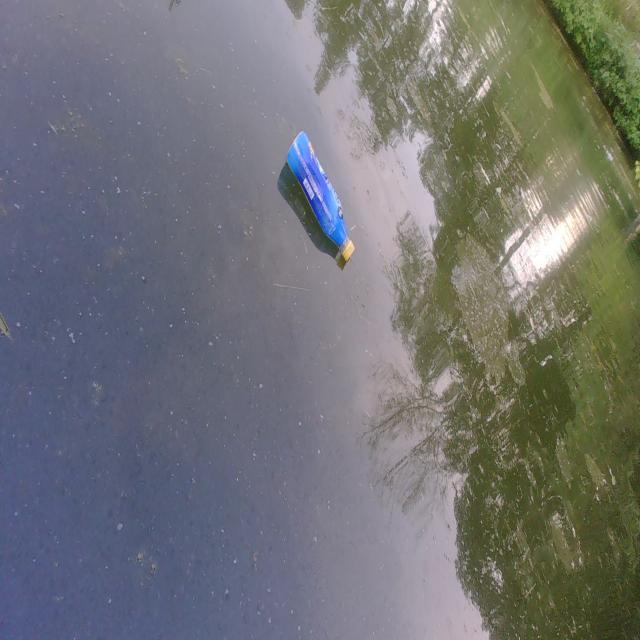bottle: (264, 96, 391, 279)
